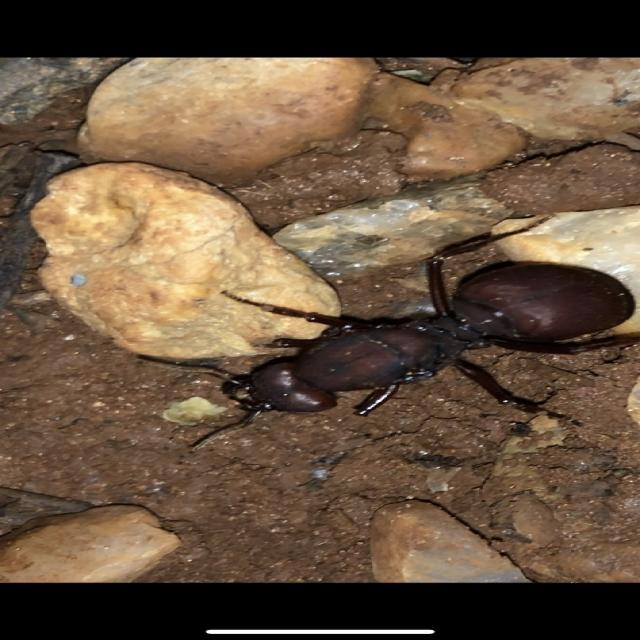Alive-Female-Dealate: (135, 215, 640, 452)
